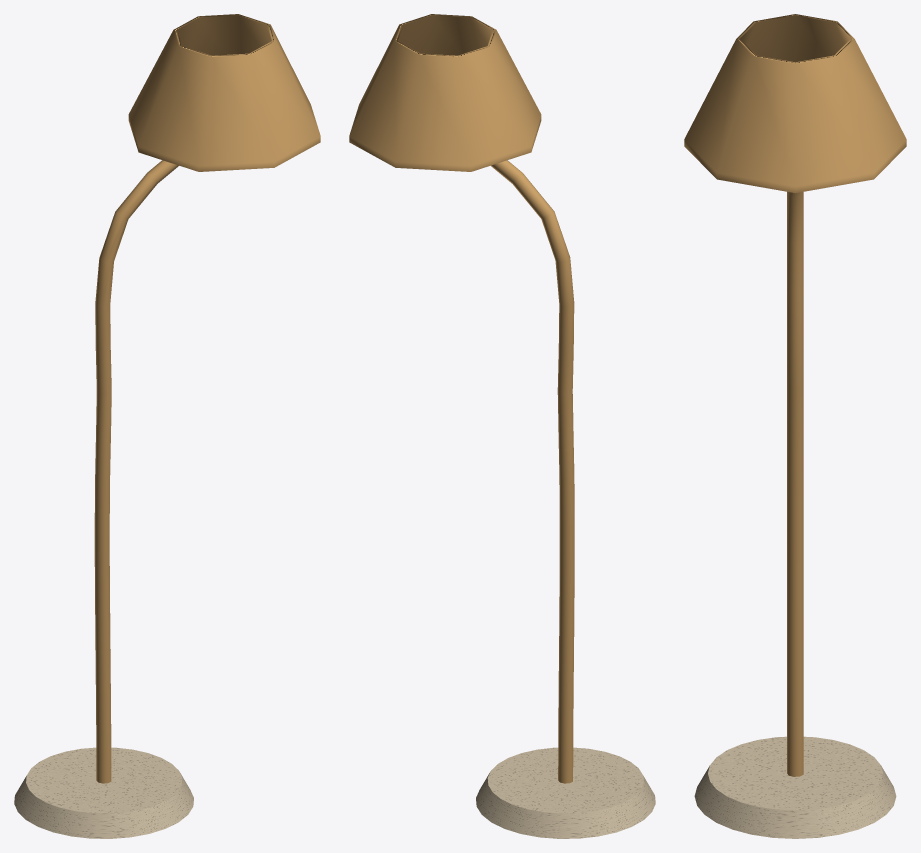
The model's file is arcade-lamp-7dd4cbaad10e.glb.
3 views of the same model, side by side, from view 1: azimuth 30°, elevation 25°; view 2: azimuth 150°, elevation 25°; view 3: azimuth 270°, elevation 25° (orthographic). The views are drawn at different scales.
Visible parts, largest first — view 1: surface_brass, surface_terrazzo; view 2: surface_brass, surface_terrazzo; view 3: surface_brass, surface_terrazzo.
Boxes of the visible parts, x1,y1,x2,y2 form: surface_brass: (94, 14, 320, 783); surface_terrazzo: (14, 747, 193, 838); surface_brass: (349, 14, 574, 783); surface_terrazzo: (476, 747, 655, 838); surface_brass: (684, 14, 906, 776); surface_terrazzo: (694, 736, 896, 838).
Bounding box in the file's own units: 0.638 × 1.58 × 0.386.
Materials: 3 (1 with a texture image).
